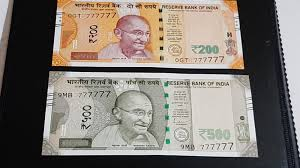fiveHundred: (56, 89, 237, 143)
